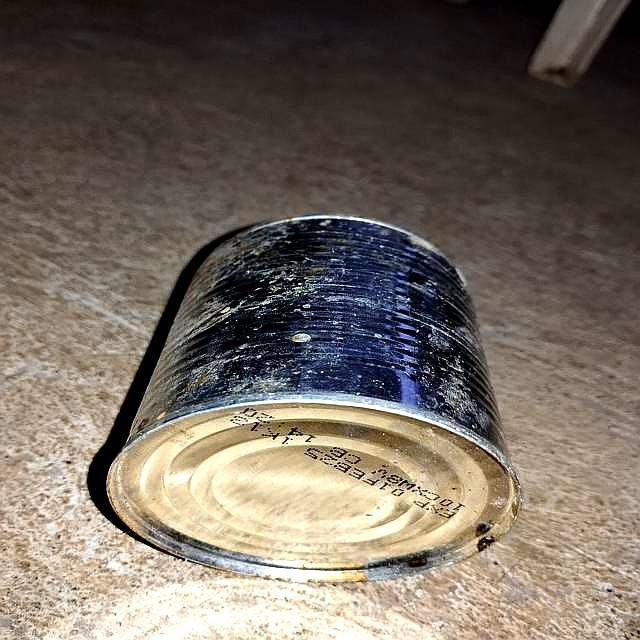Non-biodegradable: (101, 213, 524, 585)
